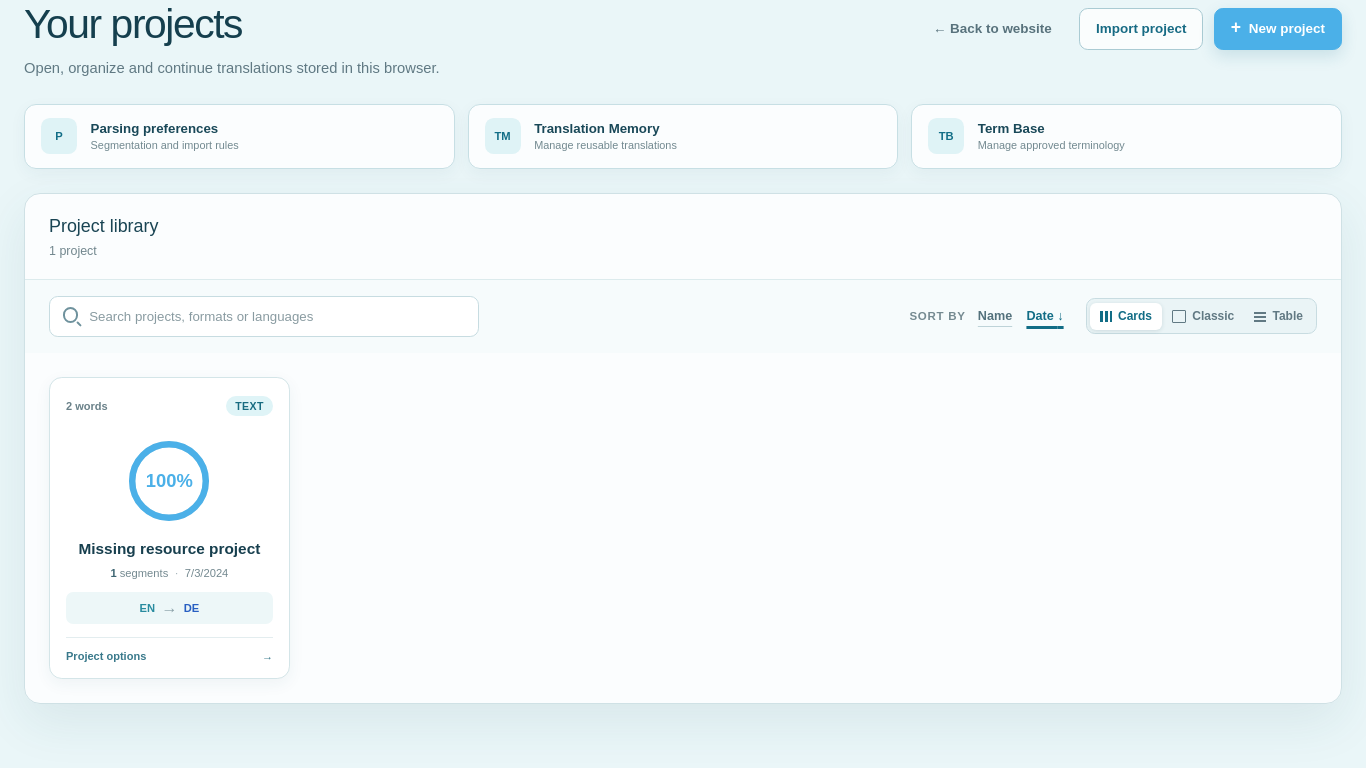
Test: real CAT application route › keeps the project library open when an active TM resource is missing
The width and height of the screenshot is (1366, 768).
(page scrolled)
Click the button with aria-label "Open options for Missing resource project": (169, 528) [49,377,290,679]
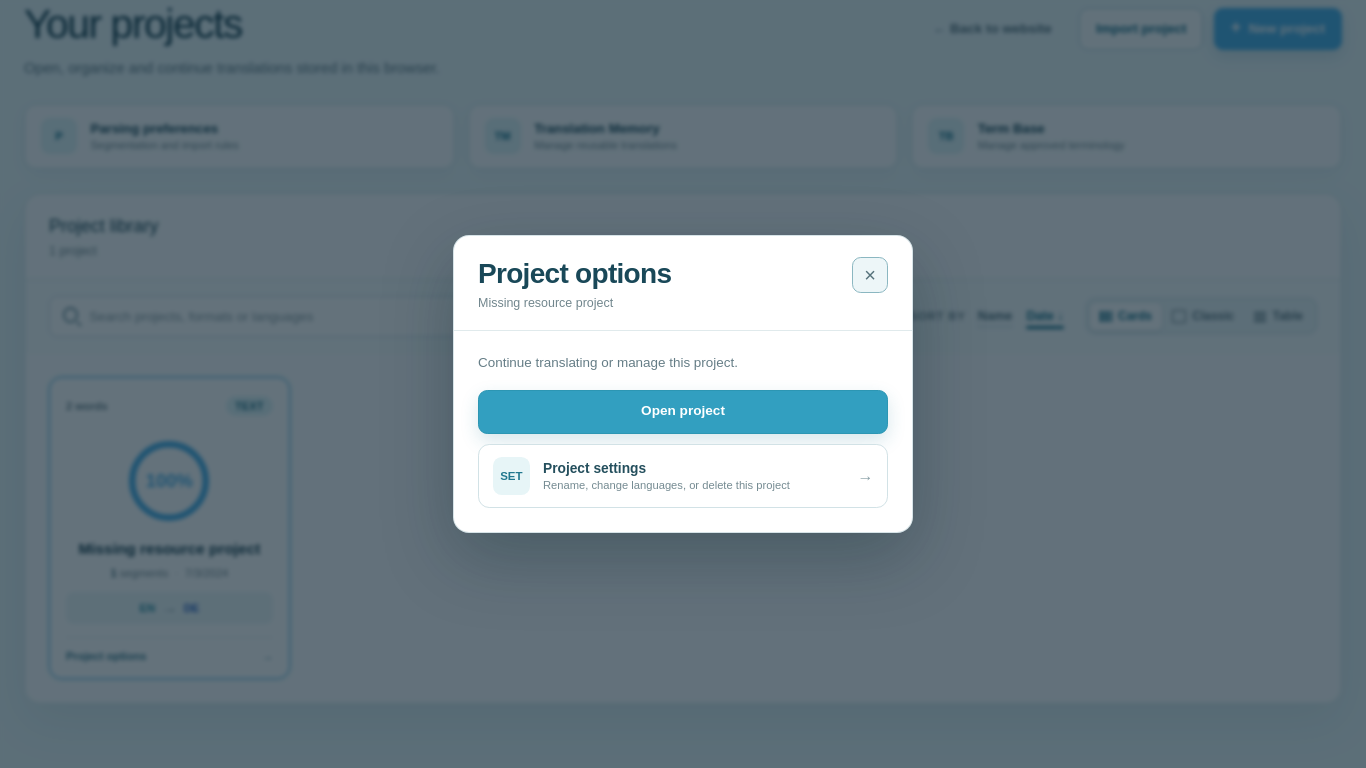
expect the text "Continue translating" is shown: met, box [478,355,738,370]
Click the button "Open project": (683, 412) [478,390,888,434]
(page scrolled)
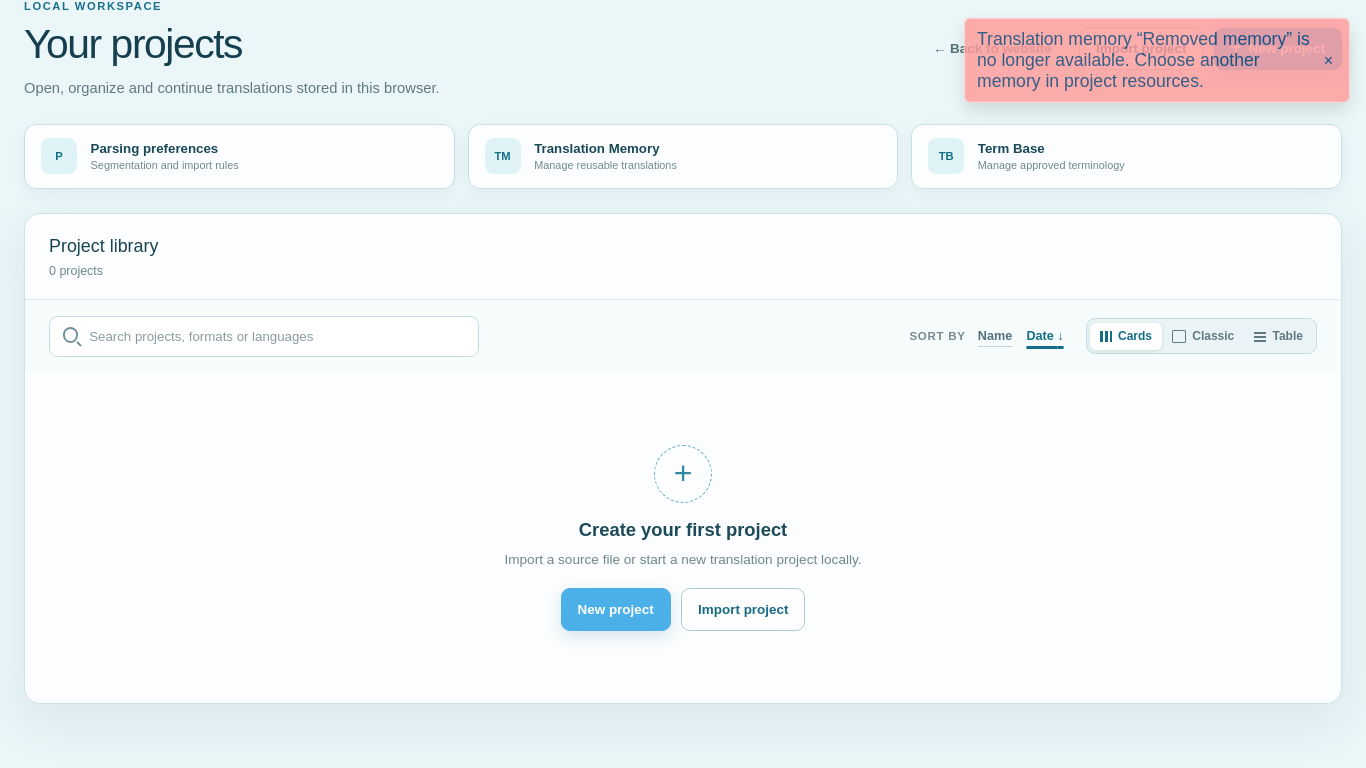
expect the text "Your projects" is shown: met, box [24,21,242,67]
expect the text "no longer available" is shown: met, box [977,27,1310,89]
